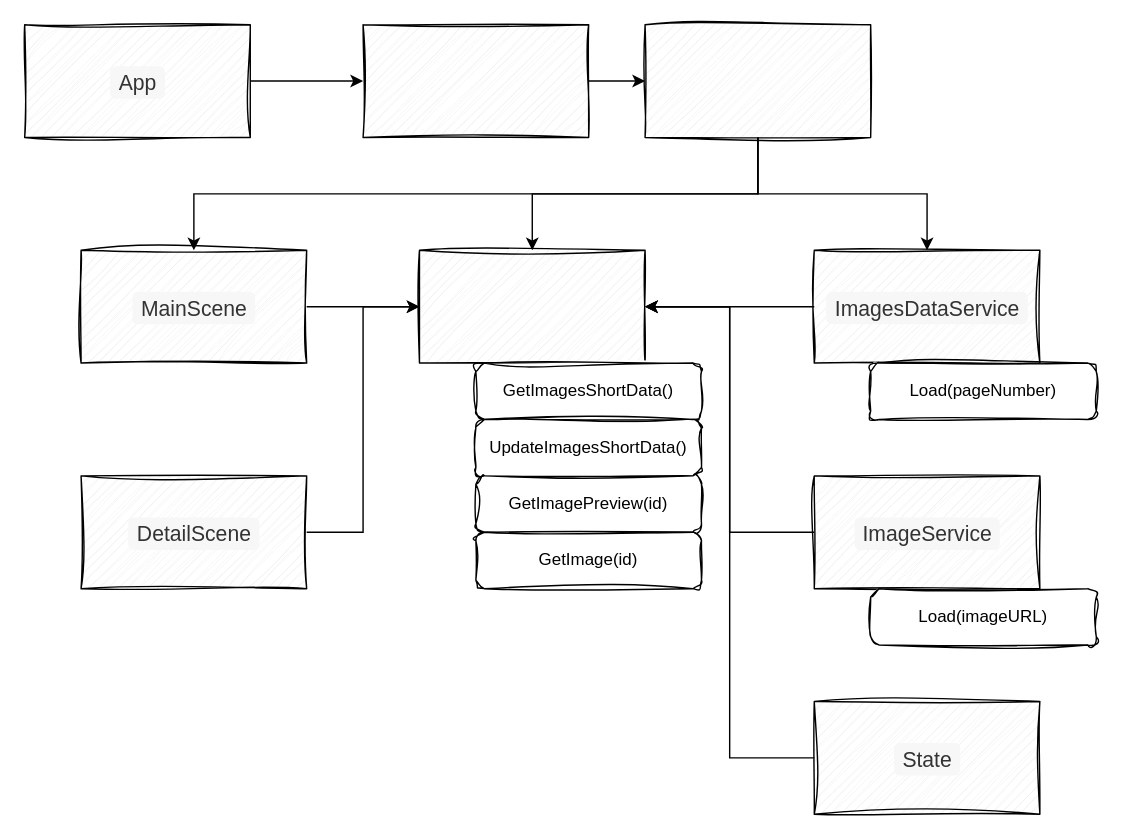
The diagram is 1121 pixels wide and 839 high, and some of its shapes have lost their labels. The centre of each missing label's shape, as x and y in pixels:
GetImagesUseCase: (531,306)
MainCoordinator: (475,80)
MainFactory: (757,80)
